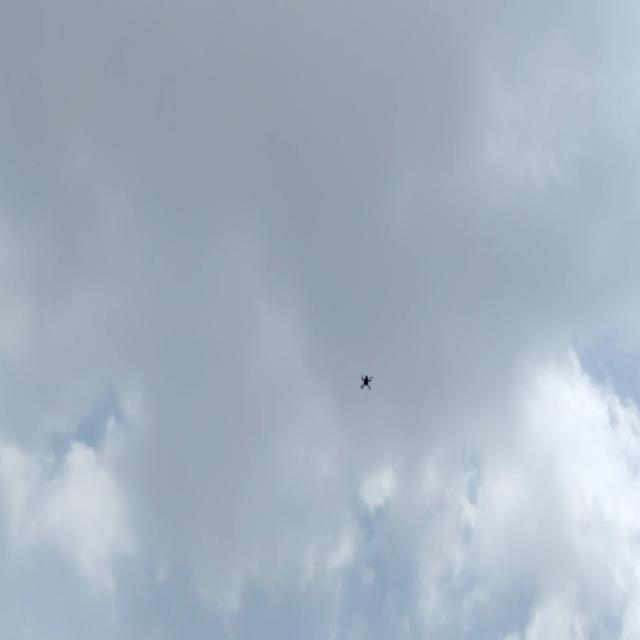drone: (354, 369, 376, 393)
